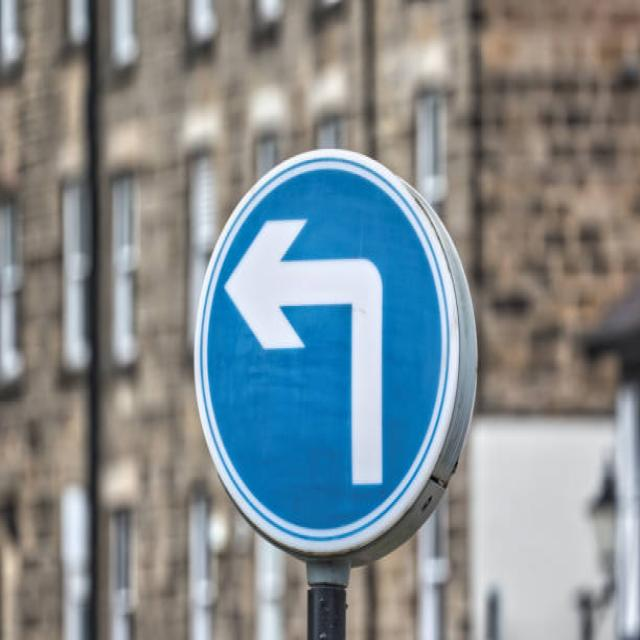LEFT: (195, 149, 476, 563)
